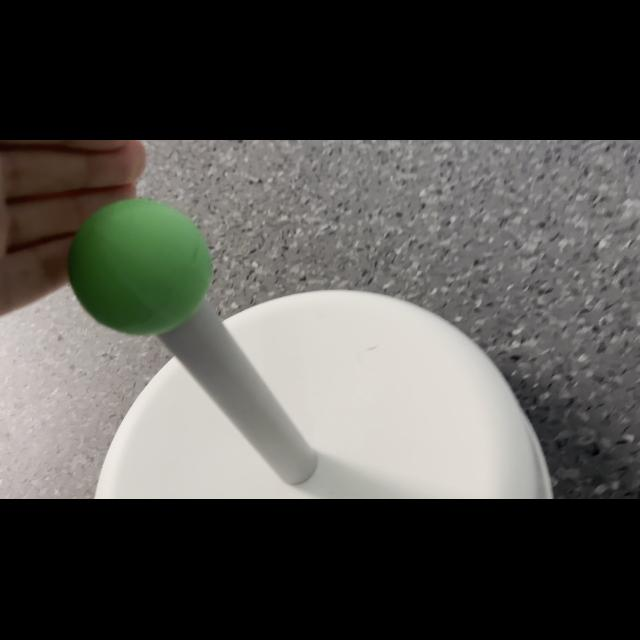objects: (65, 194, 215, 338)
